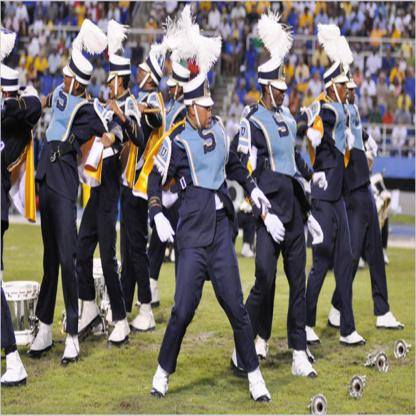face: (196, 94, 213, 129), (271, 77, 286, 106), (335, 80, 349, 104), (64, 65, 76, 92), (137, 60, 149, 84), (110, 75, 120, 99), (169, 76, 179, 98), (348, 88, 356, 105), (1, 87, 6, 107), (394, 78, 399, 85), (68, 23, 72, 30), (304, 46, 307, 53), (235, 38, 238, 45), (381, 77, 384, 83), (403, 104, 406, 110), (376, 106, 379, 112), (387, 50, 390, 56), (401, 54, 404, 60), (374, 48, 377, 54), (294, 87, 297, 93), (316, 74, 319, 80), (301, 57, 304, 63), (320, 44, 323, 50), (286, 61, 289, 67), (305, 9, 308, 15), (321, 9, 324, 15), (377, 24, 380, 30), (213, 4, 216, 10), (150, 18, 153, 24), (204, 9, 207, 15), (54, 50, 57, 56), (31, 65, 34, 71), (66, 49, 69, 55), (62, 38, 65, 44), (61, 11, 64, 17), (71, 9, 74, 15), (12, 13, 15, 19), (363, 23, 366, 29), (357, 48, 360, 53), (290, 47, 293, 52), (380, 13, 383, 18), (224, 19, 227, 24), (238, 2, 241, 7), (235, 20, 238, 25), (41, 53, 44, 58), (25, 48, 28, 53), (40, 2, 43, 7), (368, 76, 371, 80), (397, 62, 400, 66), (357, 69, 359, 75), (391, 91, 394, 95), (365, 91, 367, 97), (318, 59, 320, 65), (292, 9, 295, 13), (253, 6, 255, 12), (20, 3, 23, 7), (334, 12, 336, 18), (309, 90, 311, 95), (300, 73, 302, 78), (56, 31, 58, 36), (23, 63, 25, 68), (103, 13, 105, 18), (113, 5, 115, 10), (404, 91, 406, 95), (394, 26, 396, 30), (42, 32, 44, 36), (47, 39, 49, 43), (39, 15, 41, 19)
